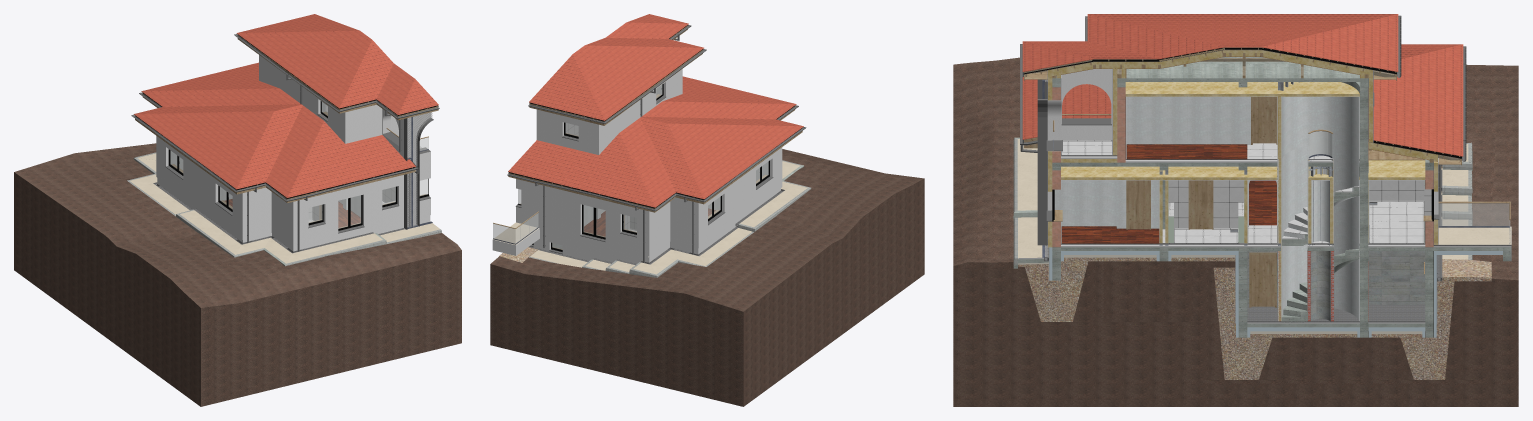
The model's file is detaliat-b.glb.
The picture shows the model from 3 angles, left to right: view 1: azimuth 30°, elevation 25°; view 2: azimuth 150°, elevation 25°; view 3: azimuth 270°, elevation 25°; orthographic projection. The views are drawn at different scales.
Parts seen in each view (by area): view 1: Model; view 2: Model; view 3: Model.
Boxes of the visible parts, x1=… form: Model: x1=14, y1=14, x2=461, y2=406; Model: x1=490, y1=14, x2=924, y2=406; Model: x1=953, y1=14, x2=1518, y2=406.
Bounding box in the file's own units: 16.14 × 14.06 × 20.
42 materials, 28 textured.
